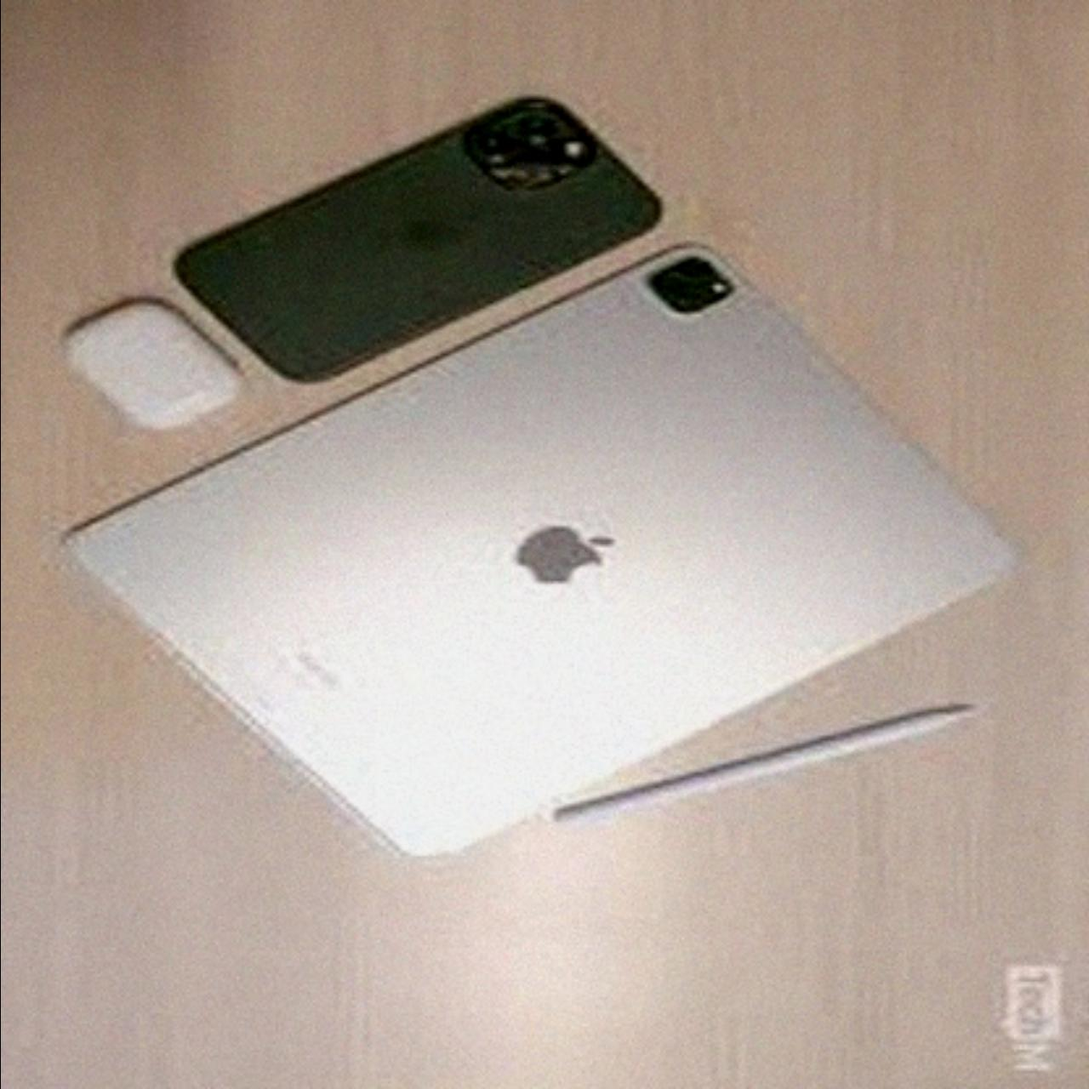Tablet_PC: (58, 236, 1026, 890)
